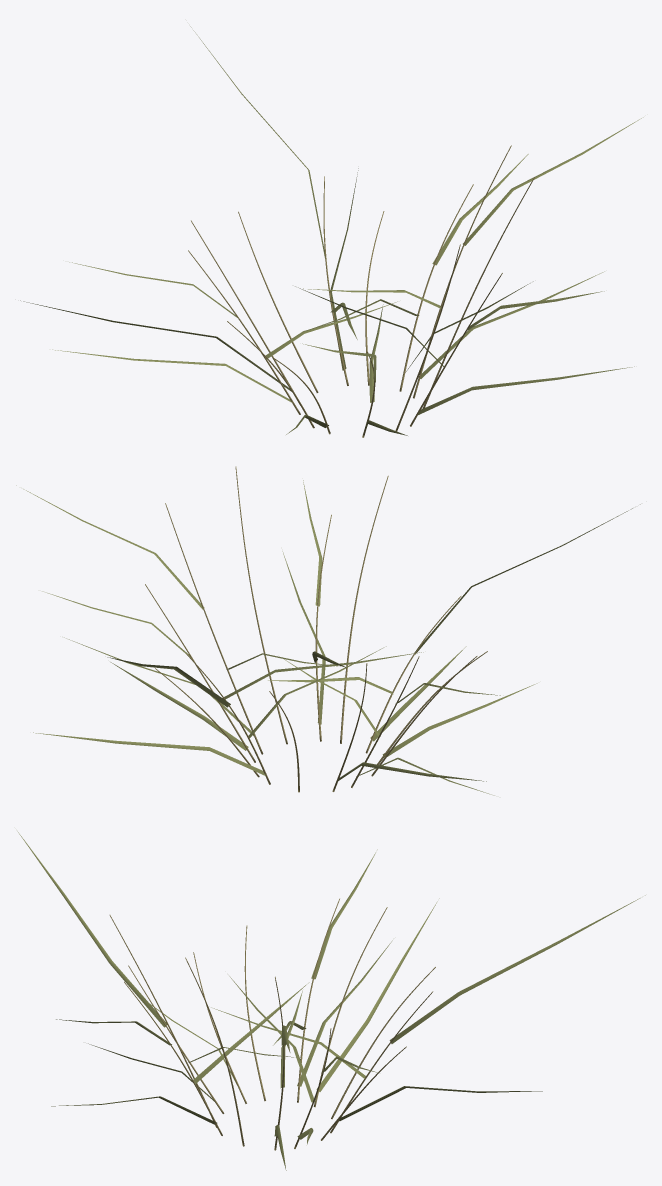
File: Herbes_0_Niveau1.fbx
The picture shows the model from 3 angles, top to bottom: view 1: azimuth 30°, elevation 25°; view 2: azimuth 150°, elevation 25°; view 3: azimuth 270°, elevation 25°; orthographic projection. The views are drawn at different scales.
Visible parts, largest first — view 1: Herbes_0_Niveau1_Jeu; view 2: Herbes_0_Niveau1_Jeu; view 3: Herbes_0_Niveau1_Jeu.
Part boxes in pixels (x1=…): Herbes_0_Niveau1_Jeu: x1=20, y1=26, x2=643, y2=437; Herbes_0_Niveau1_Jeu: x1=16, y1=466, x2=640, y2=795; Herbes_0_Niveau1_Jeu: x1=17, y1=831, x2=645, y2=1170.
Bounding box in the file's own units: 68.21 × 29.42 × 70.66.
